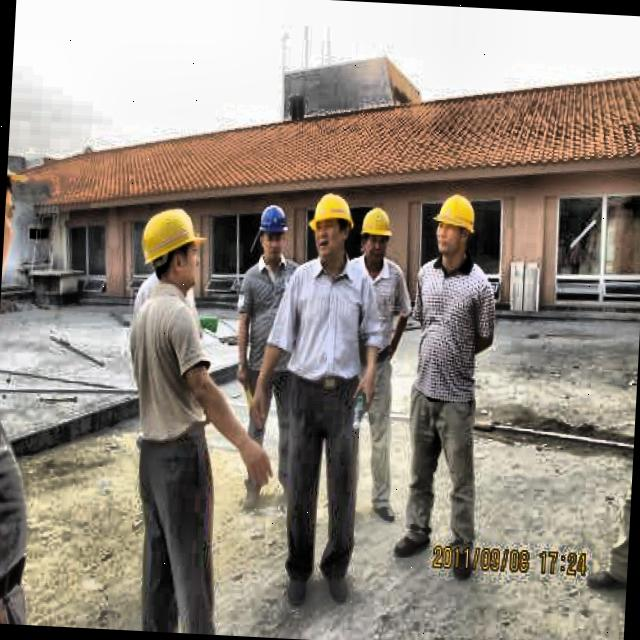helmet: (136, 200, 210, 294), (308, 187, 356, 268), (433, 190, 479, 264), (355, 203, 394, 270), (255, 202, 292, 264)
